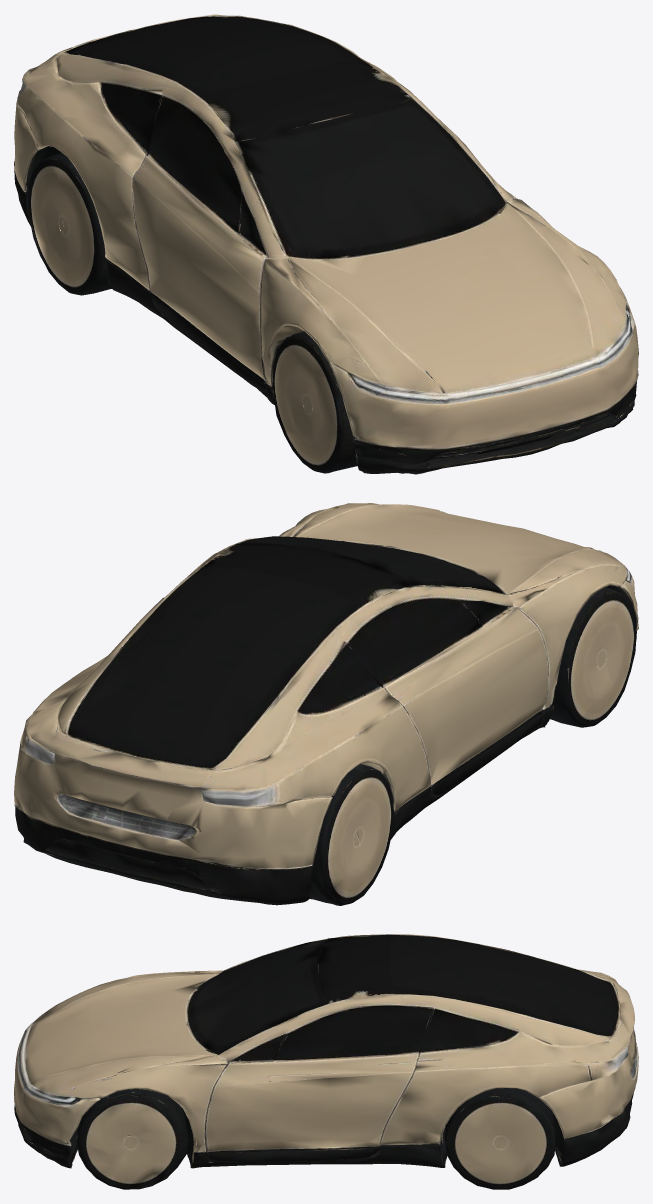
File: car_gold_electric.glb
The picture shows the model from 3 angles, top to bottom: view 1: azimuth 30°, elevation 25°; view 2: azimuth 150°, elevation 25°; view 3: azimuth 270°, elevation 25°; orthographic projection. The views are drawn at different scales.
Visible parts, largest first — view 1: prop; view 2: prop; view 3: prop.
Boxes of the visible parts, bbox=[...] form: prop: bbox=[14, 14, 638, 474]; prop: bbox=[14, 503, 638, 905]; prop: bbox=[14, 934, 638, 1189].
Bounding box in the file's own units: 1.51 × 1.13 × 3.6.
1 material, 1 textured.
